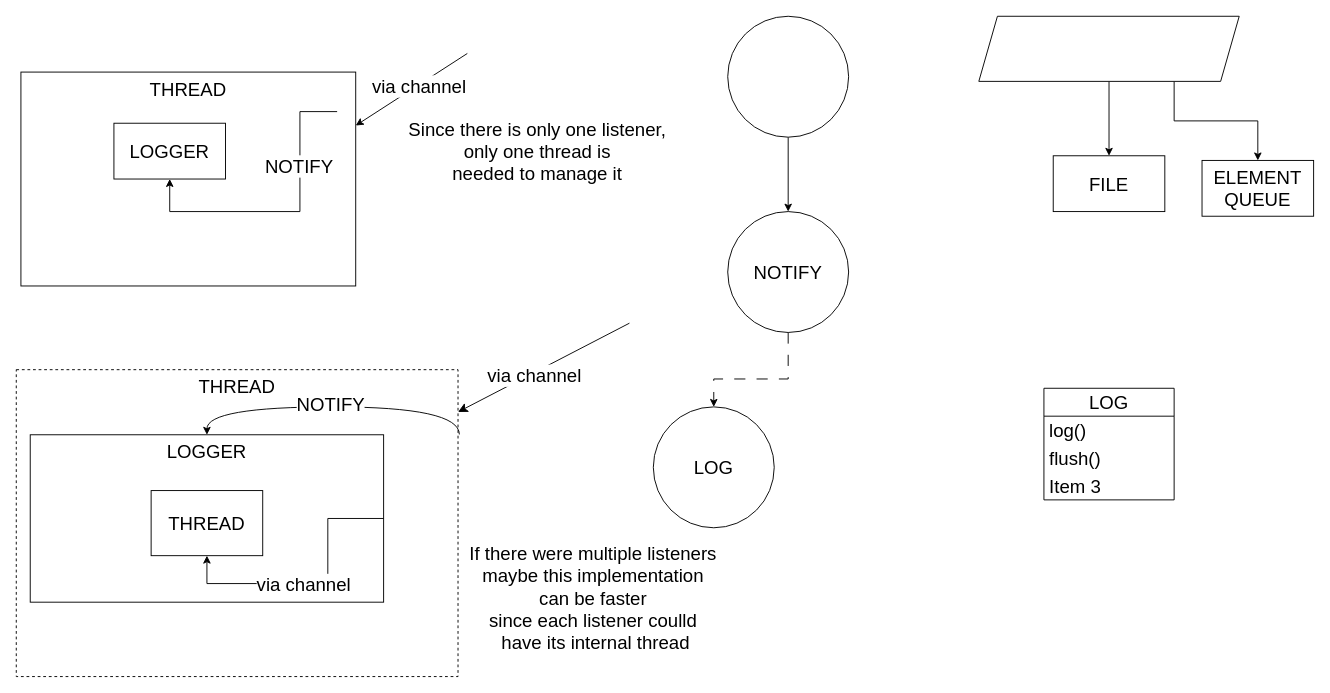
Some shapes in this 1330 by 693 pixel diagram are drawn without their labels. Each missing label, with the centre of its shape:
"CALCULATION" goes at (x=788, y=76).
"HistoryLogger" goes at (x=1108, y=48).
